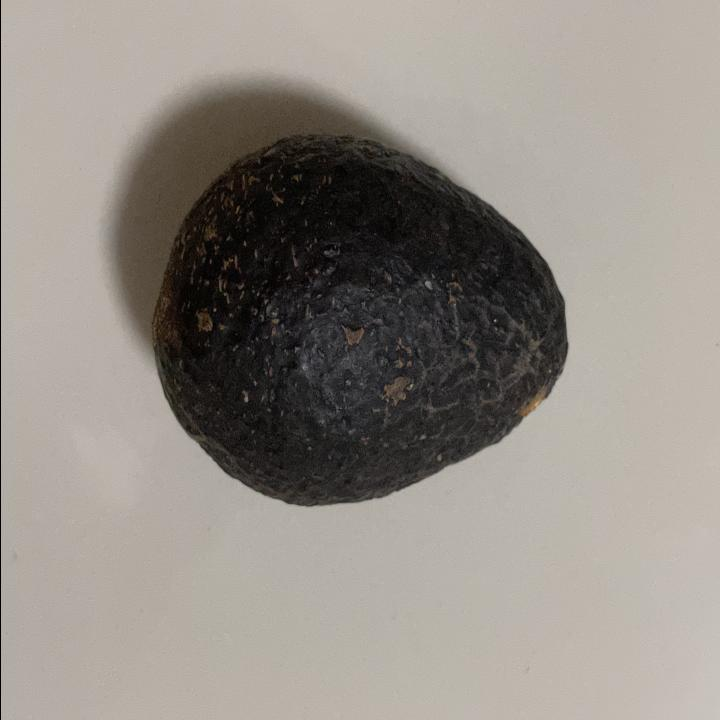Level3: (144, 119, 580, 521)
